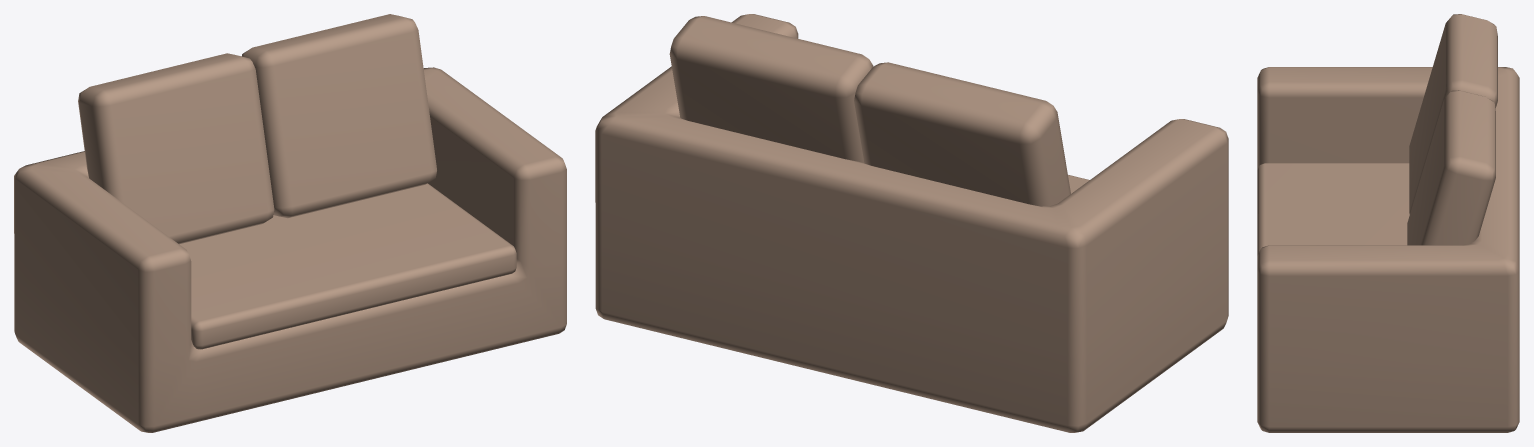
The model's file is Chair_Couch_1.glb.
The picture shows the model from 3 angles, left to right: view 1: azimuth 30°, elevation 25°; view 2: azimuth 150°, elevation 25°; view 3: azimuth 270°, elevation 25°; orthographic projection. The views are drawn at different scales.
Visible parts, largest first — view 1: Couch_1; view 2: Couch_1; view 3: Couch_1.
Part boxes in pixels (x1,y1,x2,y2): Couch_1: (14, 14, 566, 432); Couch_1: (595, 14, 1228, 432); Couch_1: (1257, 14, 1519, 432).
Size of the model in its own units: 2.39 by 1.38 by 1.31.
1 material, 1 textured.
